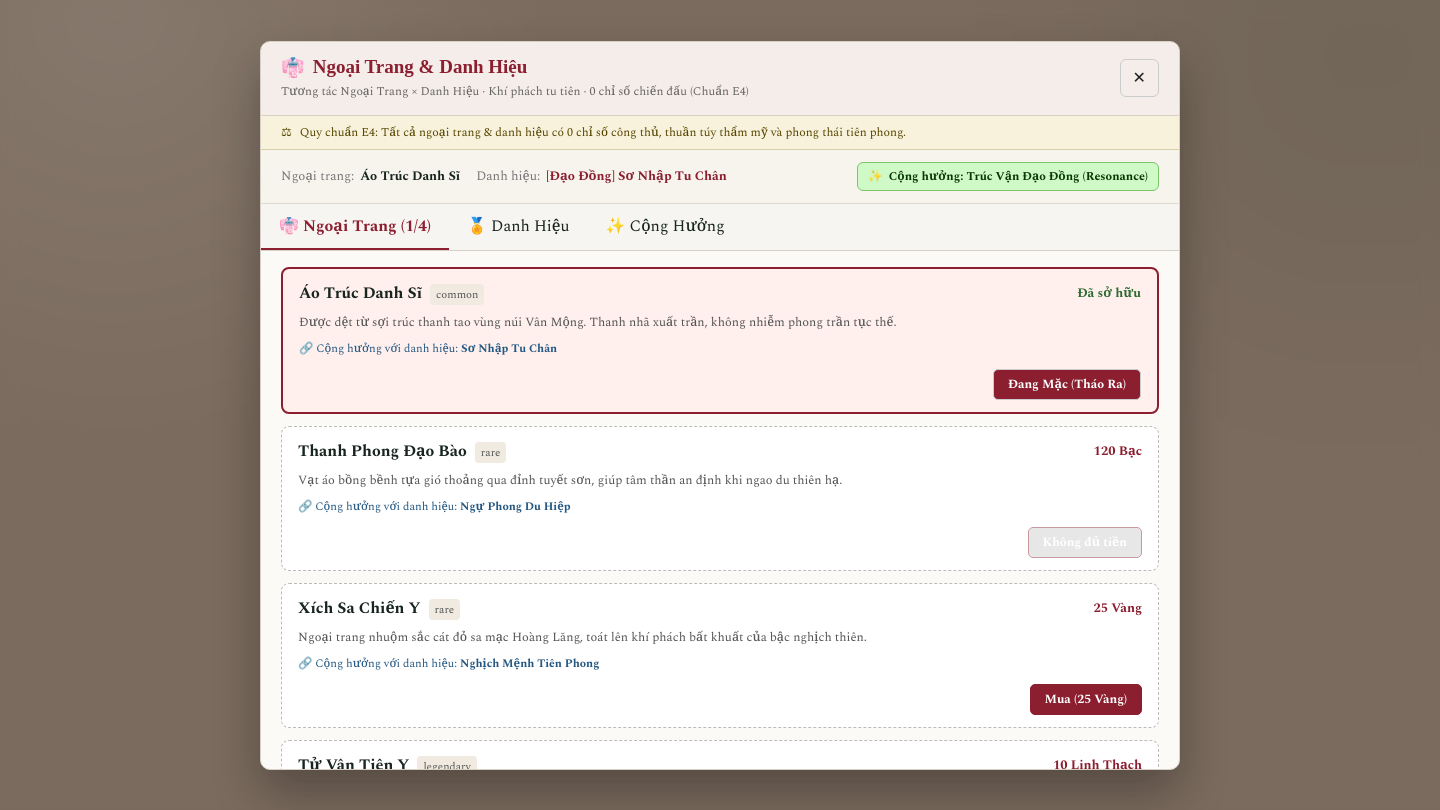
Scenario: C3-16: Outfits & Titles UI (React Component Tests) › displays synergy banner and active badge when matching outfit and title are equipped
The image size is (1440, 810).
Expected: the element with test id "synergy-banner" is shown, [857,162,1159,190]
Expected: the element with test id "synergy-banner" shows "Trúc Vận Đạo Đồng", [966,166,1148,186]
# Switch to resonance tab and check active badge
Click the button with test id "tab-resonance".
click(665, 226)  # box [588,204,743,250]
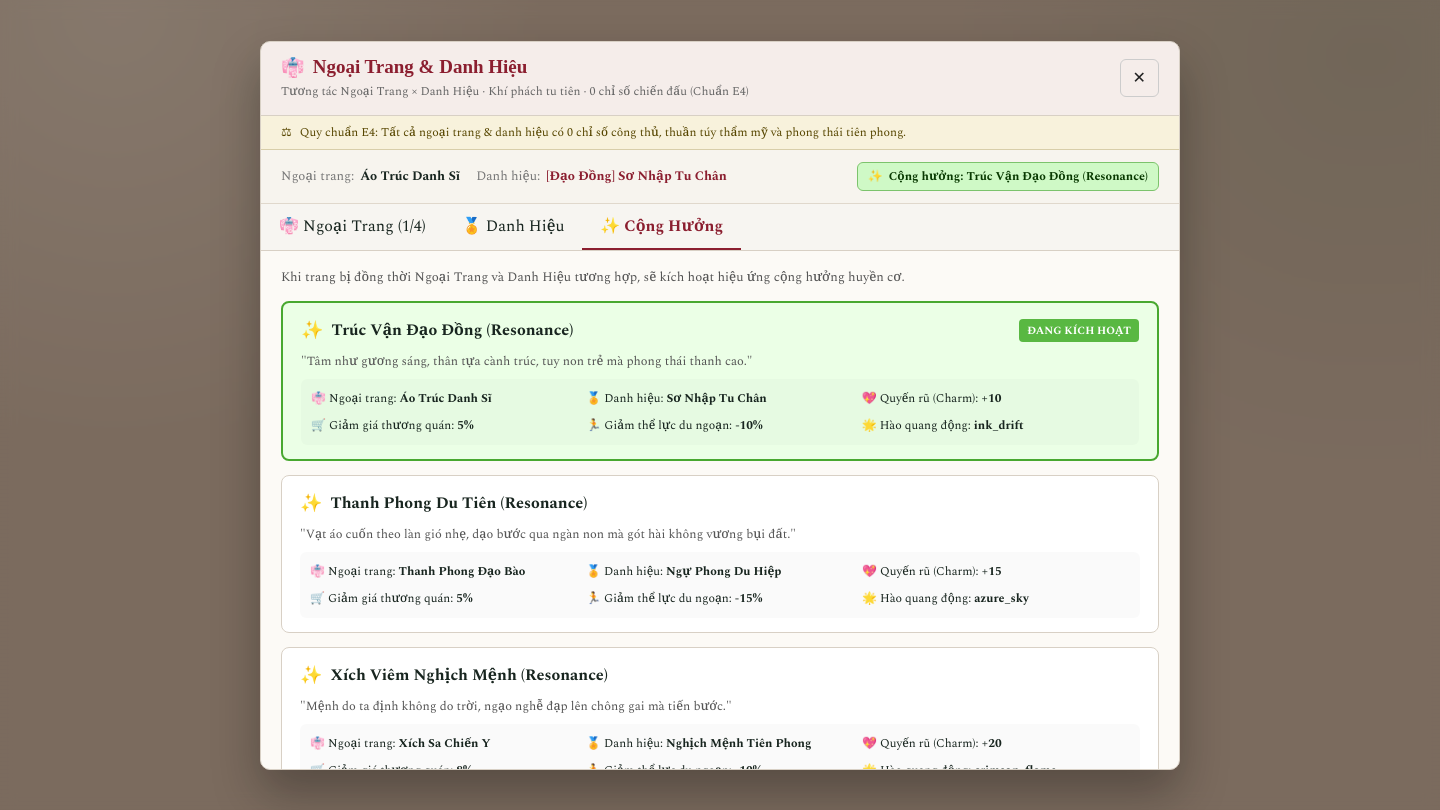
Expected: the element with test id "resonance-card-synergy_bamboo_novice" shows "ĐANG KÍCH HOẠT", [1027,322,1131,338]
